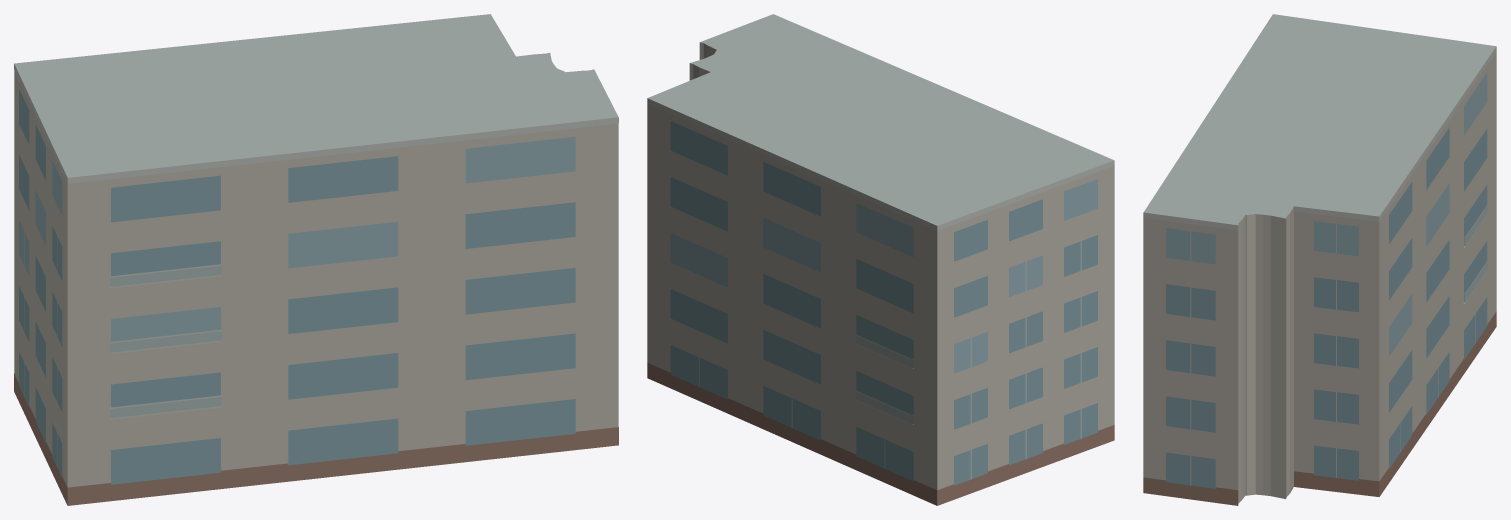
Rendered from survey-upis-32892598.glb.
The picture shows the model from 3 angles, left to right: view 1: azimuth 30°, elevation 25°; view 2: azimuth 150°, elevation 25°; view 3: azimuth 270°, elevation 25°; orthographic projection. The views are drawn at different scales.
Parts seen in each view (by area): view 1: survey-upis-32892598.tmp; view 2: survey-upis-32892598.tmp; view 3: survey-upis-32892598.tmp.
Boxes of the visible parts, left/top/right/bottom form: survey-upis-32892598.tmp: left=14, top=14, right=618, bottom=505; survey-upis-32892598.tmp: left=647, top=14, right=1114, bottom=505; survey-upis-32892598.tmp: left=1143, top=14, right=1496, bottom=505.
Size of the model in its own units: 21.17 by 13.1 by 14.95.
